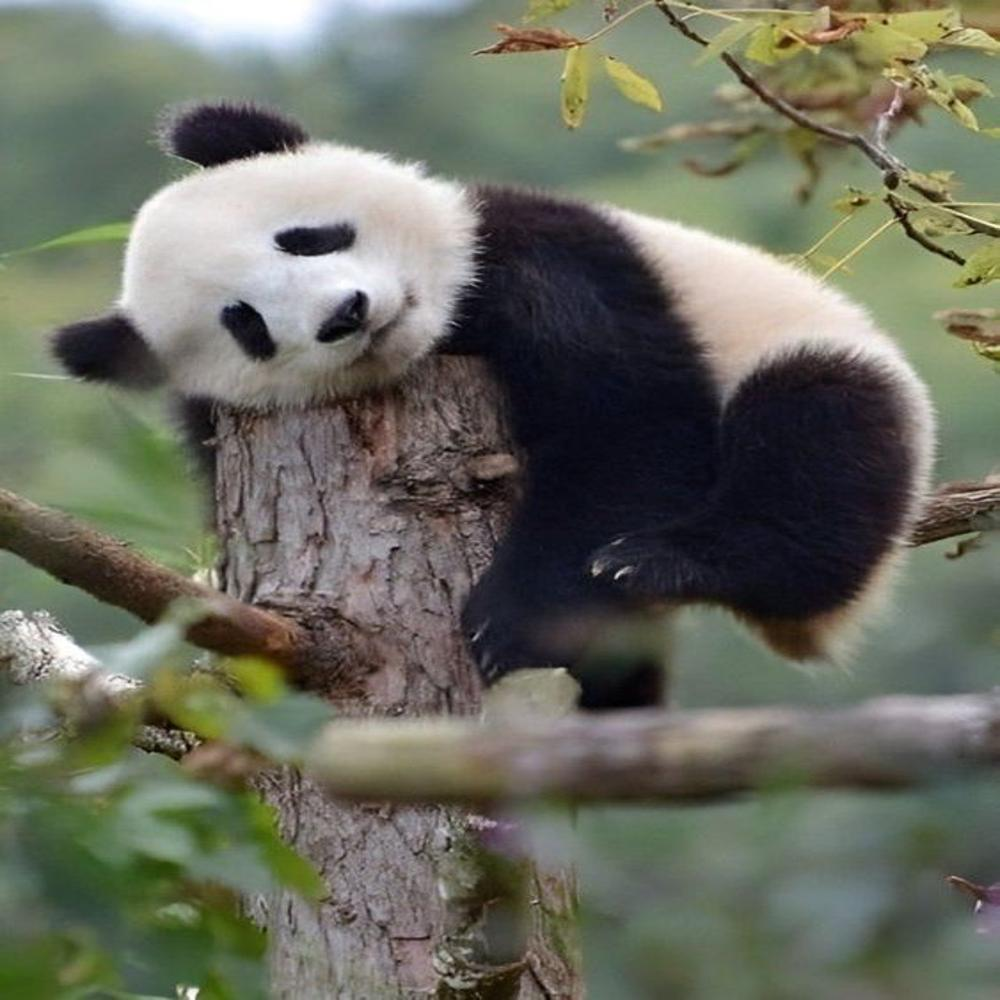panda: (42, 88, 938, 686)
